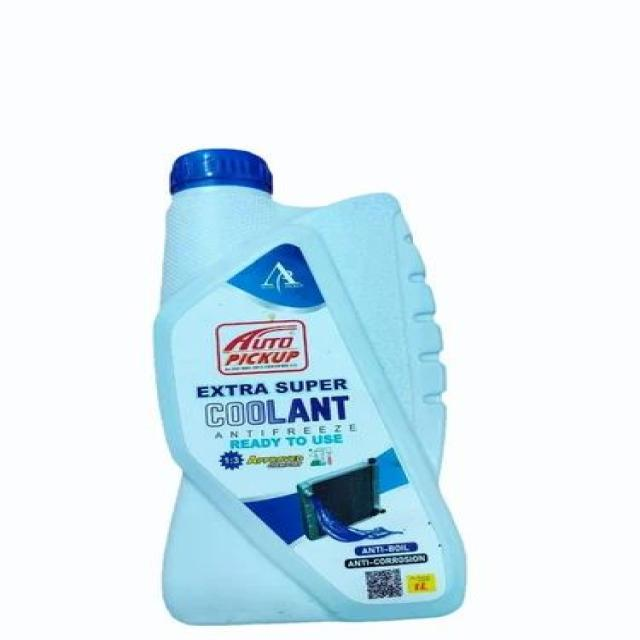coolant: (149, 134, 470, 629)
